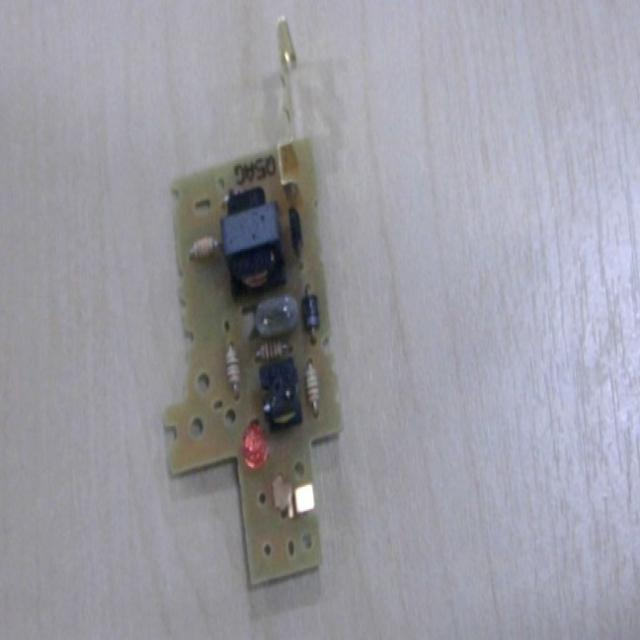019: (257, 362, 305, 432)
223: (254, 295, 299, 337)
DIODE: (301, 286, 322, 349)
LED: (241, 421, 271, 472)
R1: (225, 340, 243, 400)
R2: (254, 334, 295, 362)
R3: (304, 357, 323, 419)
R4: (190, 236, 222, 264)
TCE: (220, 190, 286, 296)
TRANSISTOR: (287, 206, 305, 266)
